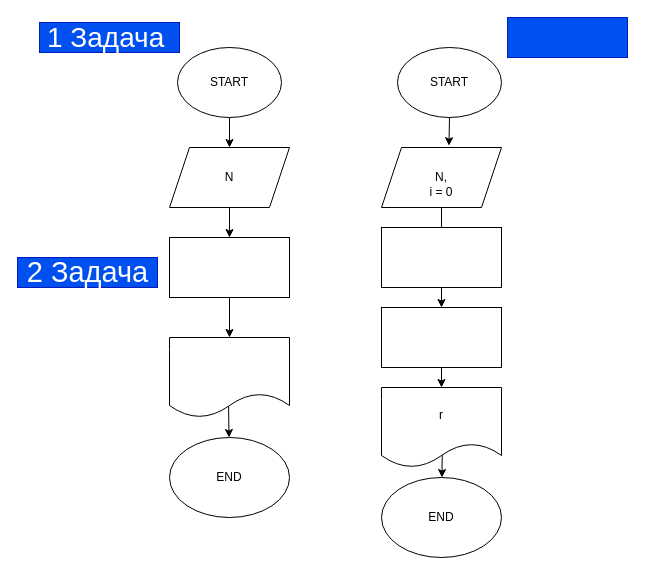
The diagram is 645 pixels wide and 575 high, and some of its shapes have lost their labels. Each missing label, with the centre of its shape:
3 Задача: point 567,37
i = 0: point 441,257
r = random(1.N) i = i+2: point 441,337
r = random(1.N) Q = r * r: point 229,267
r Q: point 229,377
